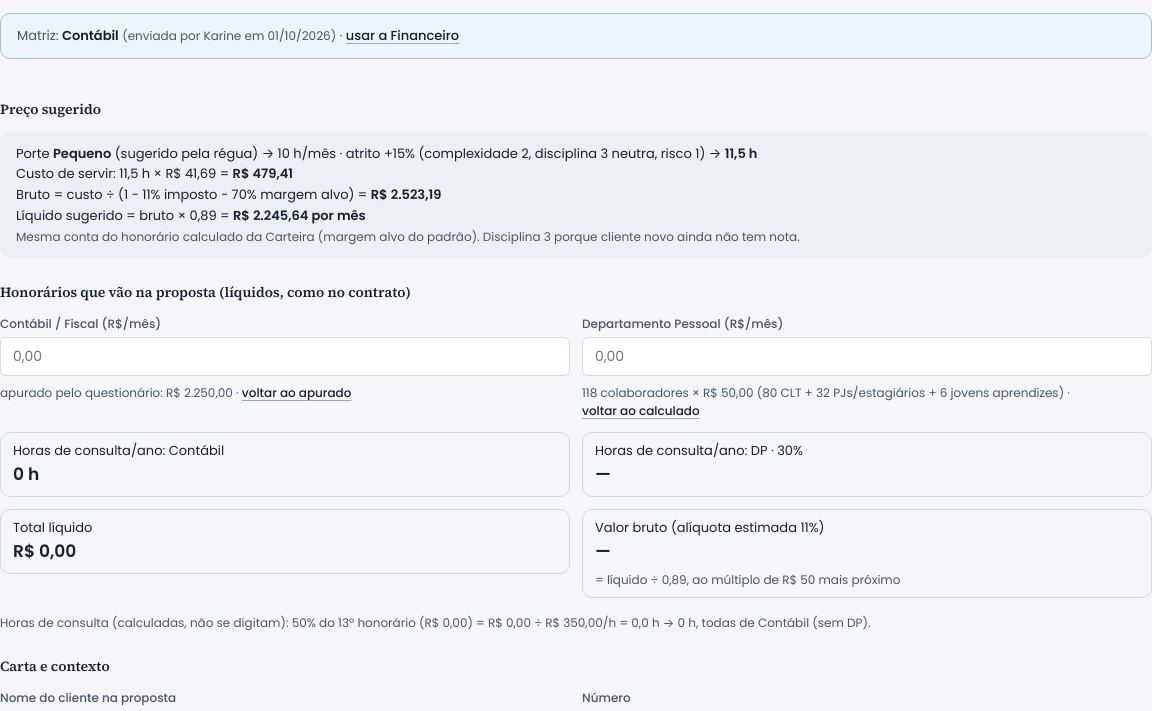
aba Proposta › sem DP, todas as horas são de Contábil
Type "4500" into the field labelled "Contábil / Fiscal (R$/mês)" at (285, 356), box [0,337,570,376]
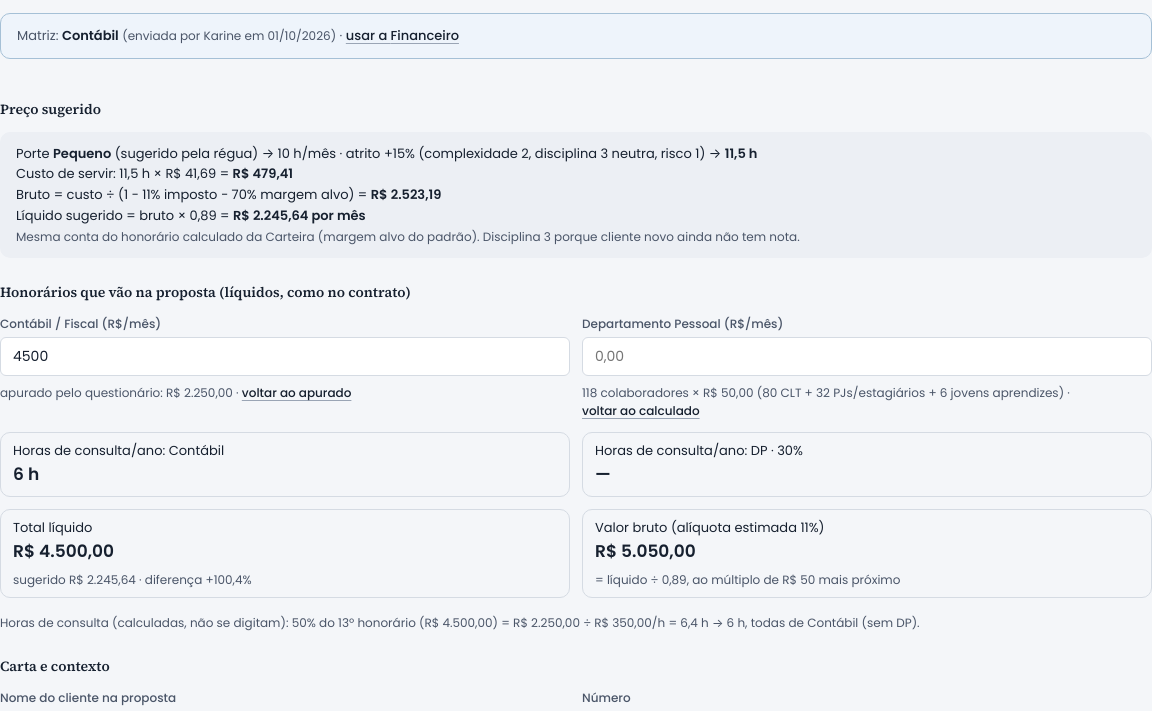
Check: the text "Horas de consulta/ano: DP · 30% —" is shown, box [582,432,1151,497]
Check: the text "Horas de consulta/ano: Contábil 6 h" is shown, box [0,432,570,497]
